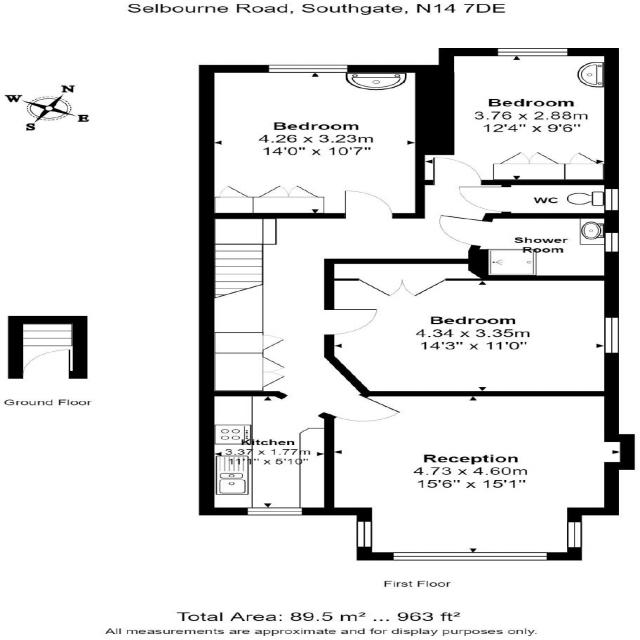DOOR: (321, 393, 407, 425), (434, 212, 494, 249), (322, 306, 383, 339), (341, 187, 398, 219), (429, 156, 486, 185), (456, 186, 511, 213)
ROOM: (318, 391, 635, 560), (199, 48, 454, 219), (324, 258, 619, 396), (425, 48, 620, 185)
WINDOW: (391, 550, 551, 562), (600, 313, 624, 355), (267, 64, 350, 74), (244, 505, 304, 517), (354, 520, 374, 547), (565, 521, 584, 549), (603, 187, 622, 212), (603, 232, 621, 253)
